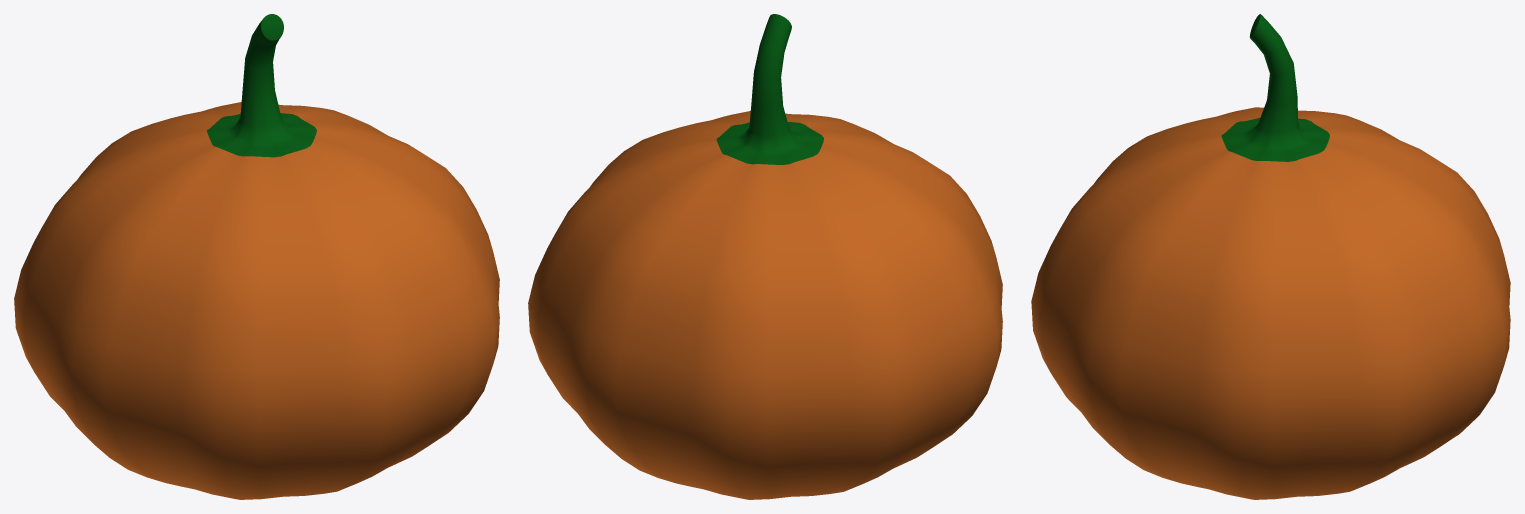
Rendered from Pumpkin01.fbx.
3 views of the same model, side by side, from view 1: azimuth 30°, elevation 25°; view 2: azimuth 150°, elevation 25°; view 3: azimuth 270°, elevation 25° (orthographic). The views are drawn at different scales.
Parts seen in each view (by area): view 1: Pumpkin01; view 2: Pumpkin01; view 3: Pumpkin01.
Part boxes in pixels (x1=…): Pumpkin01: x1=14, y1=14, x2=499, y2=499; Pumpkin01: x1=528, y1=14, x2=1002, y2=499; Pumpkin01: x1=1031, y1=14, x2=1510, y2=499.
Size of the model in its own units: 637 by 662 by 633.
